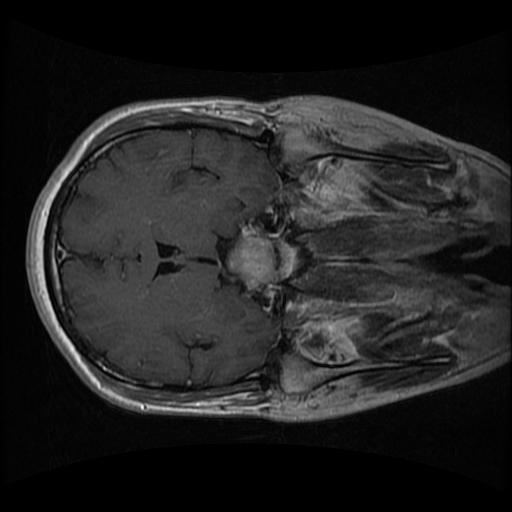pituitary tumour: (225, 222, 277, 290)
